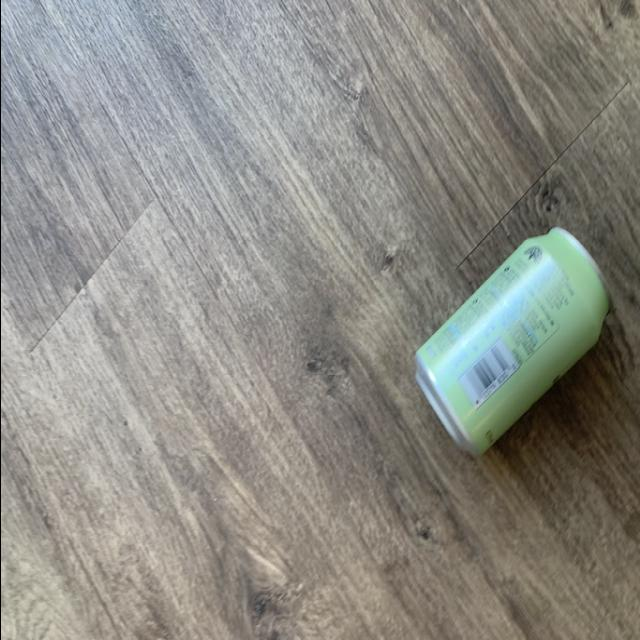Aluminum Can: (401, 223, 609, 457)
